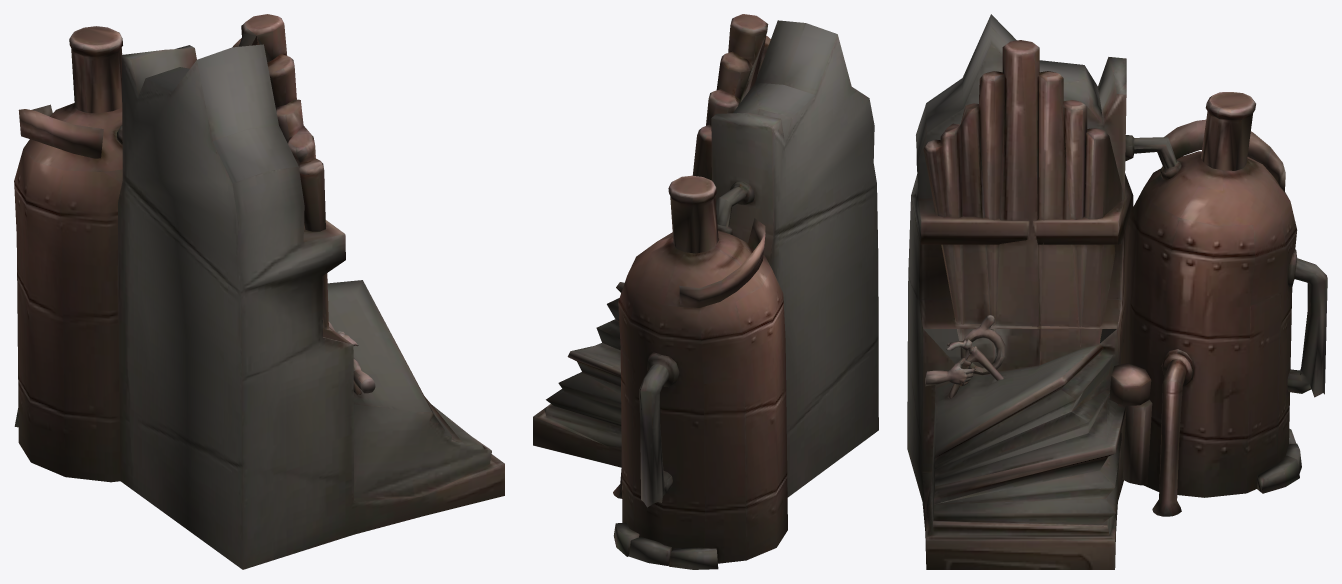
The model's file is copper_organ.glb.
3 renders of one model, left to right at view 1: azimuth 30°, elevation 25°; view 2: azimuth 150°, elevation 25°; view 3: azimuth 270°, elevation 25°, orthographic. The views are drawn at different scales.
Visible parts, largest first — view 1: model; view 2: model; view 3: model.
Part boxes in pixels (bbox=[...]): model: bbox=[14, 14, 504, 569]; model: bbox=[533, 14, 878, 569]; model: bbox=[907, 14, 1327, 569].
Size of the model in its own units: 0.6947 by 1 by 0.863.
Materials: 1 (1 with a texture image).
